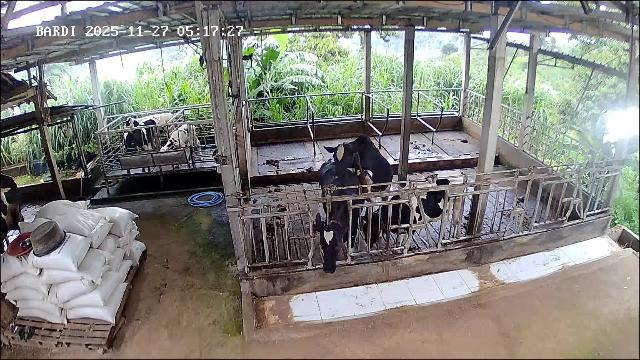mounting: (322, 134, 394, 204)
